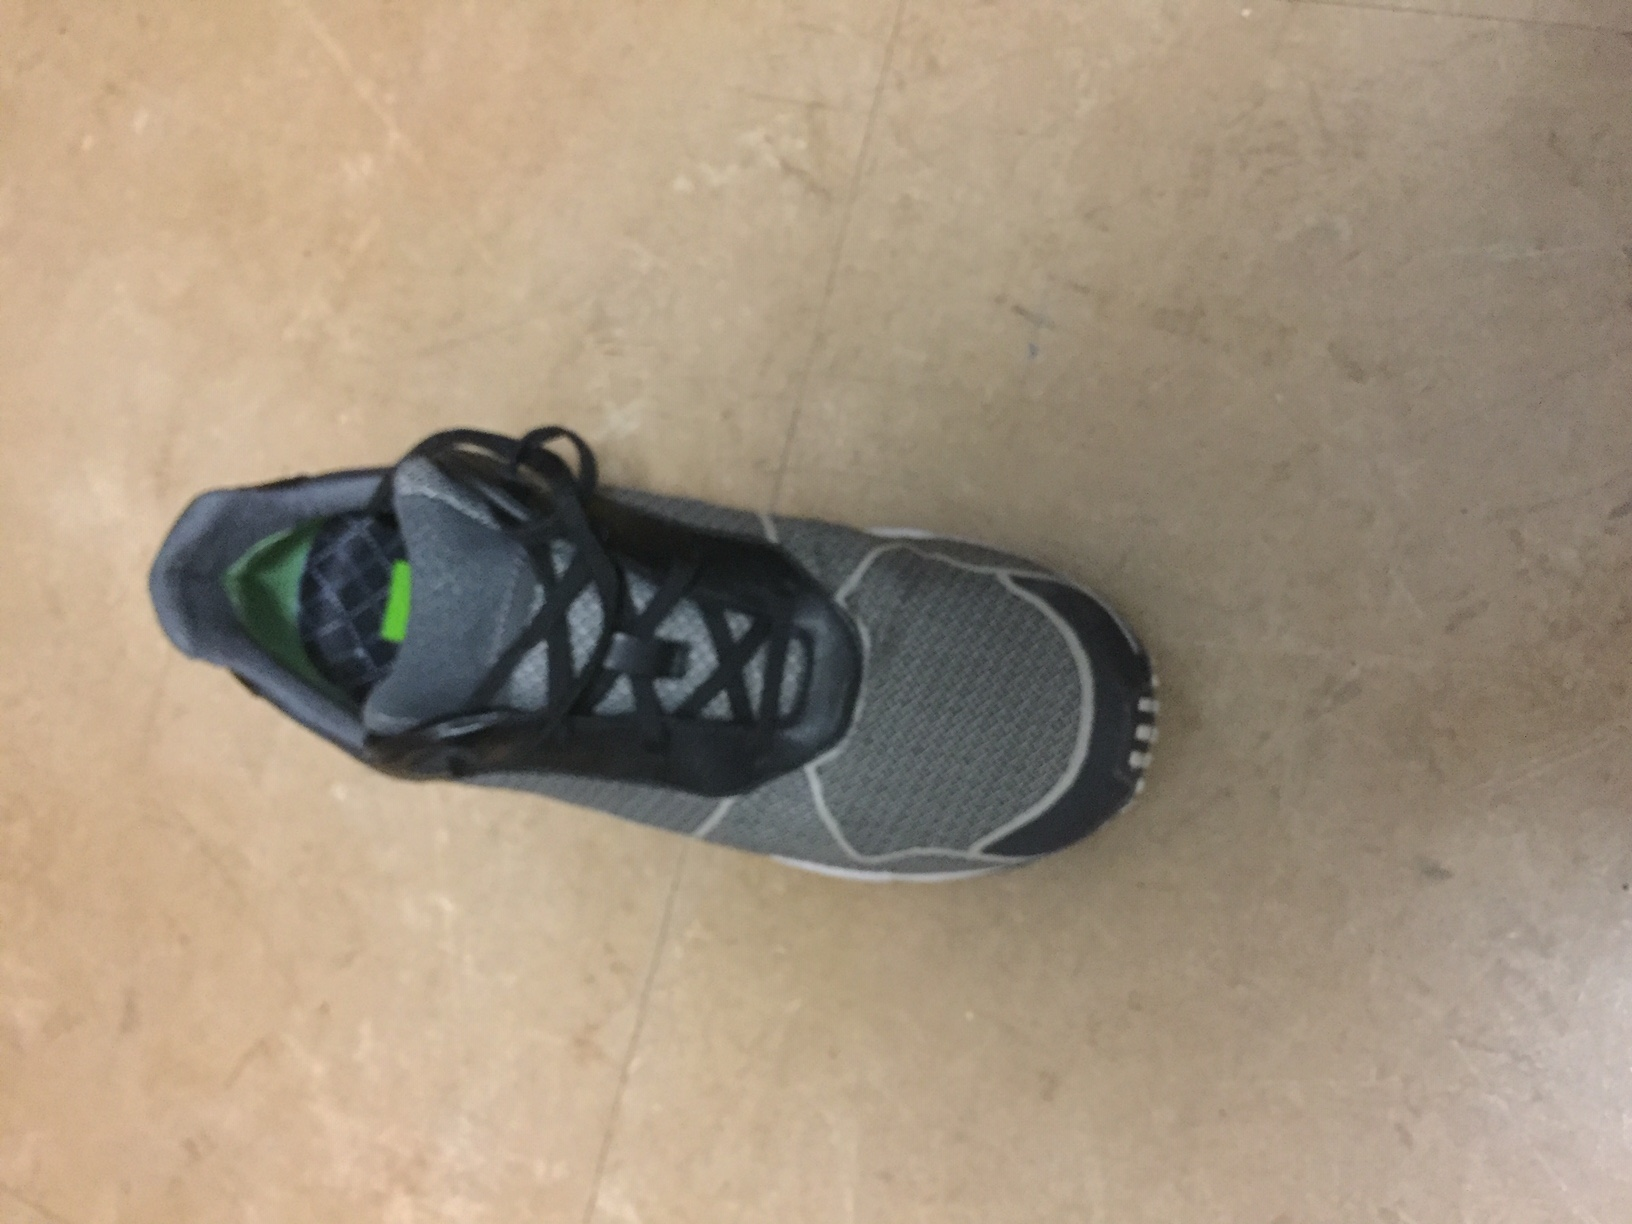car: (143, 440, 1169, 918)
